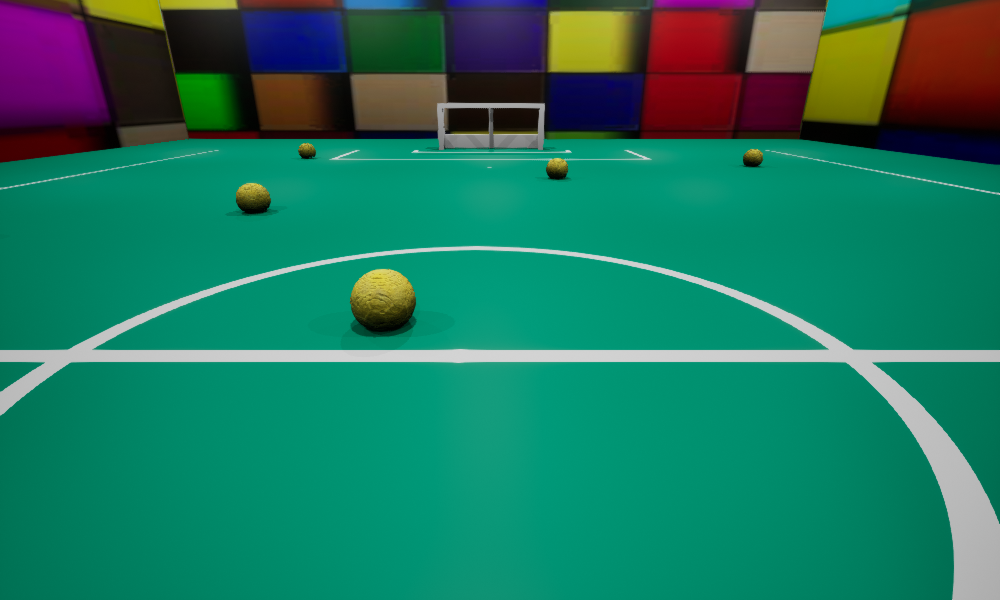b: (350, 269, 415, 331), (236, 183, 270, 212), (546, 158, 567, 178), (743, 149, 762, 166), (298, 143, 315, 158)
g: (437, 103, 544, 149)
